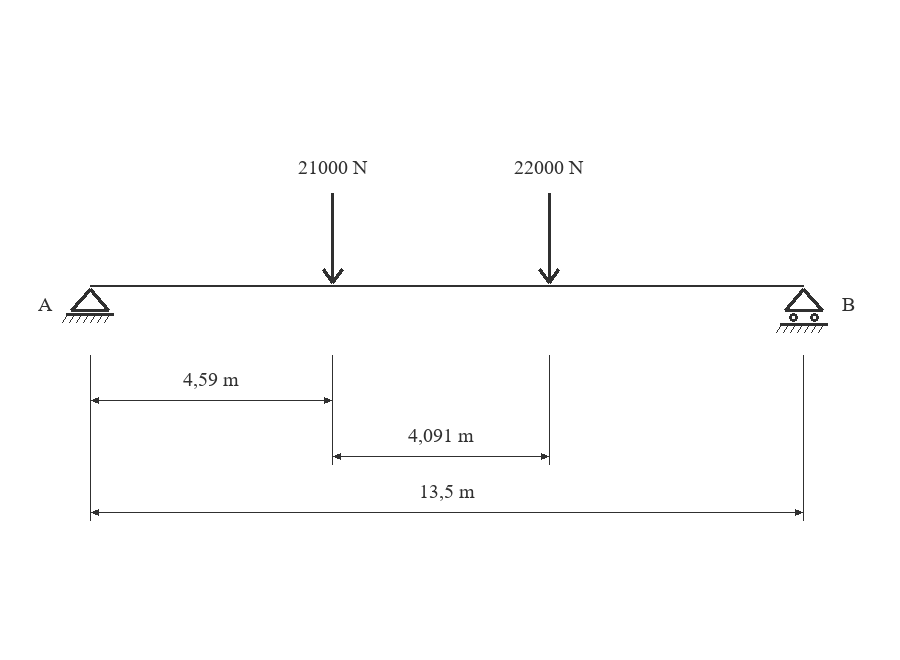pin_support: (62, 288, 114, 323)
point_load: (322, 193, 344, 284), (538, 193, 560, 284)
roller_support: (776, 288, 828, 333)
